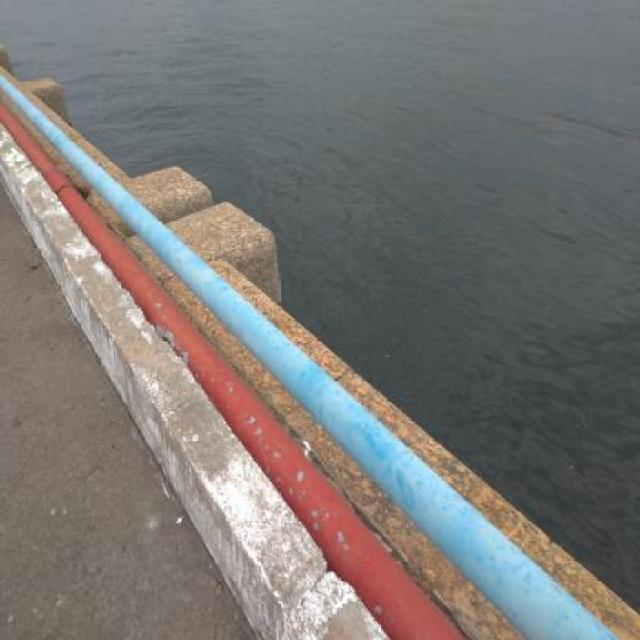gas: (2, 75, 619, 640), (0, 101, 455, 640)
